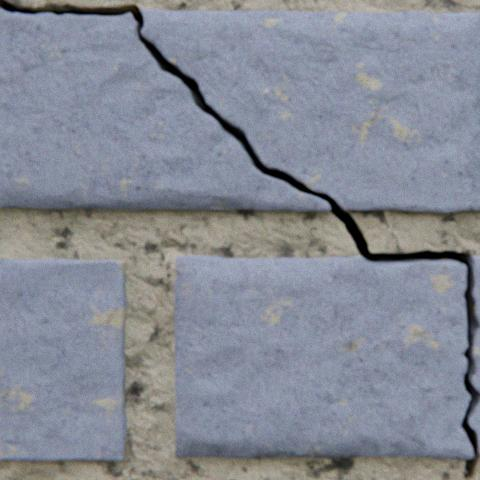brick: (0, 258, 128, 459)
broken_brick: (141, 10, 479, 212), (0, 9, 330, 211), (175, 255, 472, 457), (466, 256, 479, 454)
crack: (0, 0, 478, 479)
